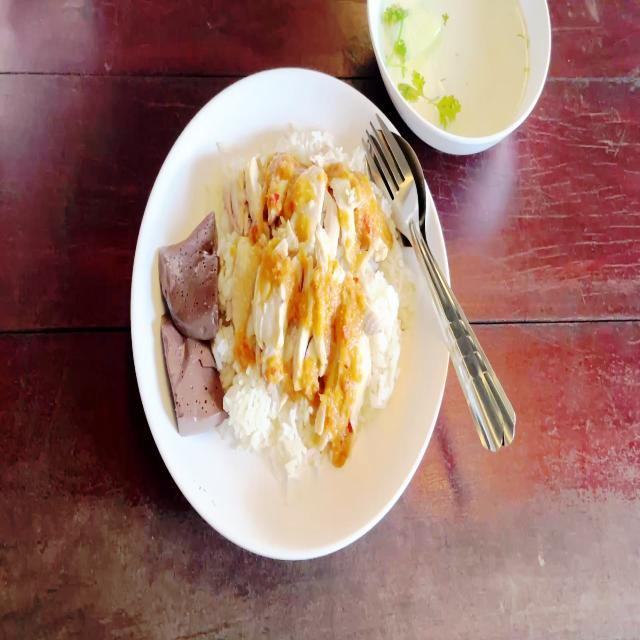boiled_chicken: (222, 165, 386, 415)
boiled_chicken_blood_jelly: (158, 214, 220, 350), (162, 312, 223, 434)
chicken_rice: (155, 129, 415, 505)
